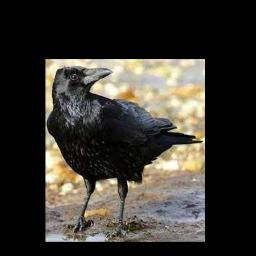Crow: (47, 66, 204, 237)
